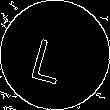L_N: (33, 26, 77, 84)
